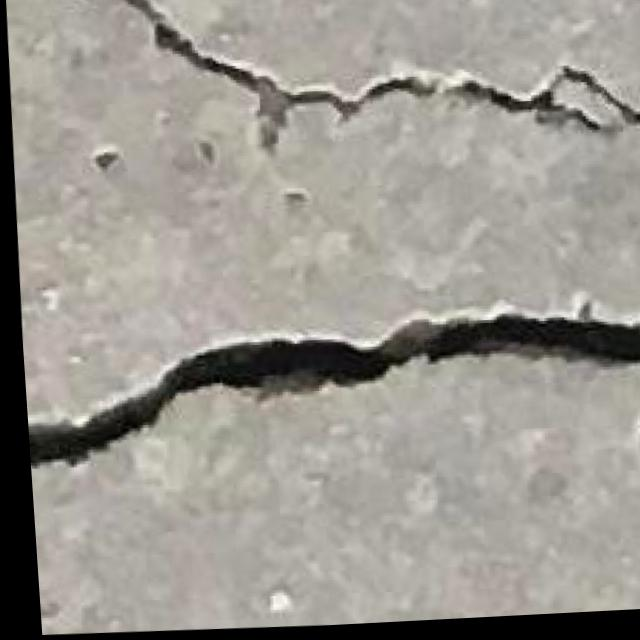Crack: (1, 0, 640, 575), (15, 264, 640, 507), (51, 0, 640, 251)
